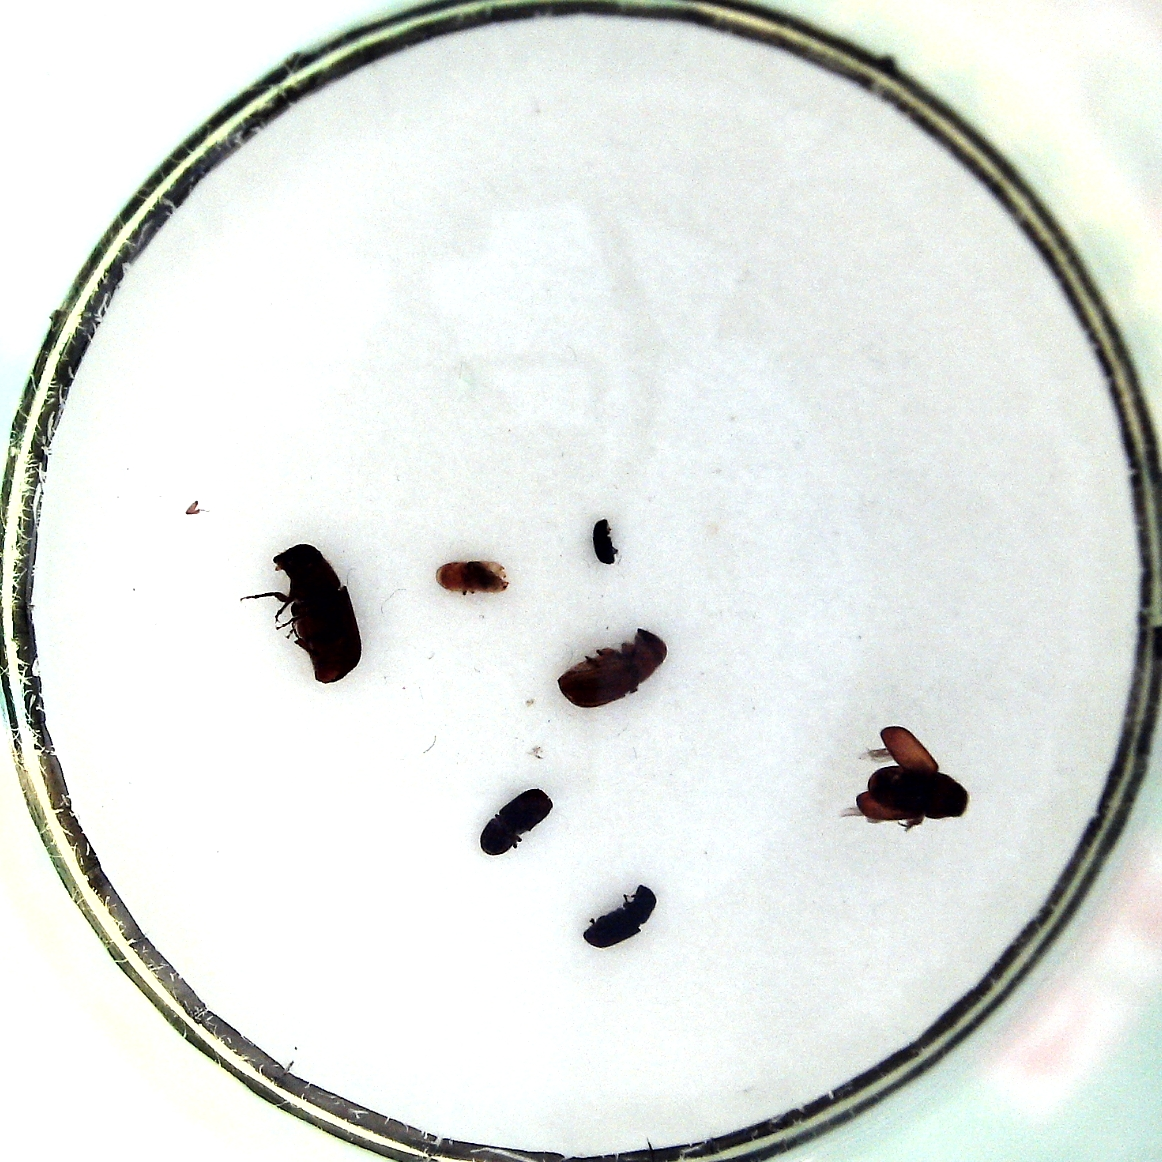Leconte: (261, 542, 363, 683), (854, 723, 972, 828), (557, 622, 670, 710)
Linnaeus: (478, 787, 555, 854)
acuminatus: (437, 555, 512, 600)
armandi: (583, 883, 658, 947)
coleoptera: (591, 516, 624, 569)
